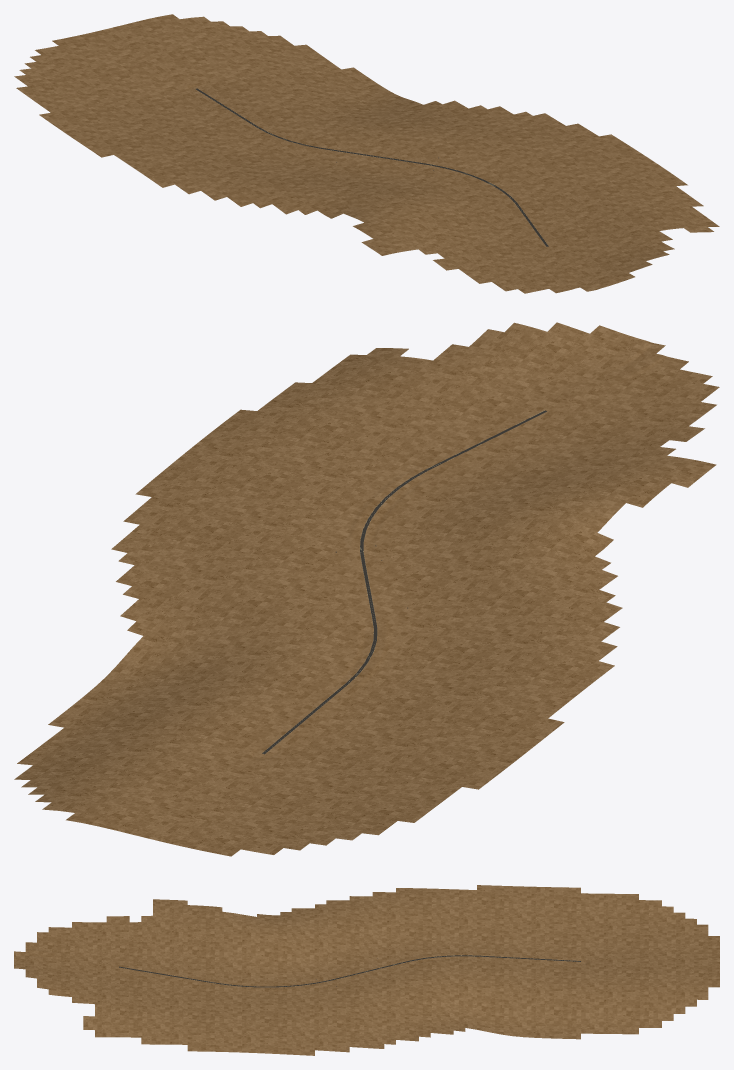
The picture shows the model from 3 angles, top to bottom: view 1: azimuth 30°, elevation 25°; view 2: azimuth 150°, elevation 25°; view 3: azimuth 270°, elevation 25°; orthographic projection. The views are drawn at different scales.
Parts seen in each view (by area): view 1: S01_TERRAIN_LOD2_WEB_EXPORT, S01_ROAD_ASPHALT_LOD2_WEB_EXPORT; view 2: S01_TERRAIN_LOD2_WEB_EXPORT, S01_ROAD_ASPHALT_LOD2_WEB_EXPORT; view 3: S01_TERRAIN_LOD2_WEB_EXPORT, S01_ROAD_ASPHALT_LOD2_WEB_EXPORT.
Boxes of the visible parts, bbox=[...] form: S01_TERRAIN_LOD2_WEB_EXPORT: bbox=[14, 14, 719, 293]; S01_ROAD_ASPHALT_LOD2_WEB_EXPORT: bbox=[195, 88, 548, 246]; S01_TERRAIN_LOD2_WEB_EXPORT: bbox=[14, 322, 719, 856]; S01_ROAD_ASPHALT_LOD2_WEB_EXPORT: bbox=[262, 410, 546, 754]; S01_TERRAIN_LOD2_WEB_EXPORT: bbox=[14, 885, 719, 1055]; S01_ROAD_ASPHALT_LOD2_WEB_EXPORT: bbox=[119, 955, 580, 987].
Size of the model in its own units: 1360 by 181 by 2440.
Materials: 5 (5 with a texture image).
